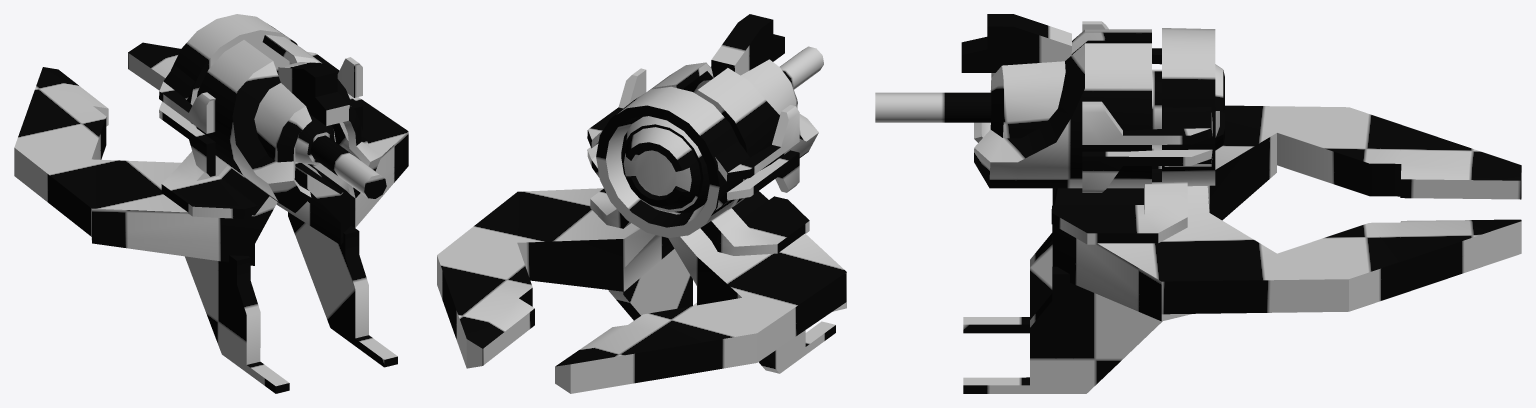
The model's file is hammerclaw_drone.obj.
3 renders of one model, left to right at view 1: azimuth 30°, elevation 25°; view 2: azimuth 150°, elevation 25°; view 3: azimuth 270°, elevation 25°, orthographic. The views are drawn at different scales.
Parts seen in each view (by area): view 1: Cylinder001; view 2: Cylinder001; view 3: Cylinder001.
Boxes of the visible parts, x1,y1,x2,y2 form: Cylinder001: (14, 14, 408, 393); Cylinder001: (437, 14, 846, 393); Cylinder001: (875, 14, 1521, 393).
Size of the model in its own units: 27.1 by 24.25 by 41.85.
Materials: 1 (1 with a texture image).
